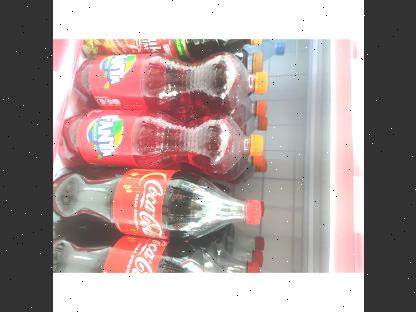Plastic Bottle: (52, 171, 260, 241), (57, 108, 264, 176), (71, 51, 267, 109)
